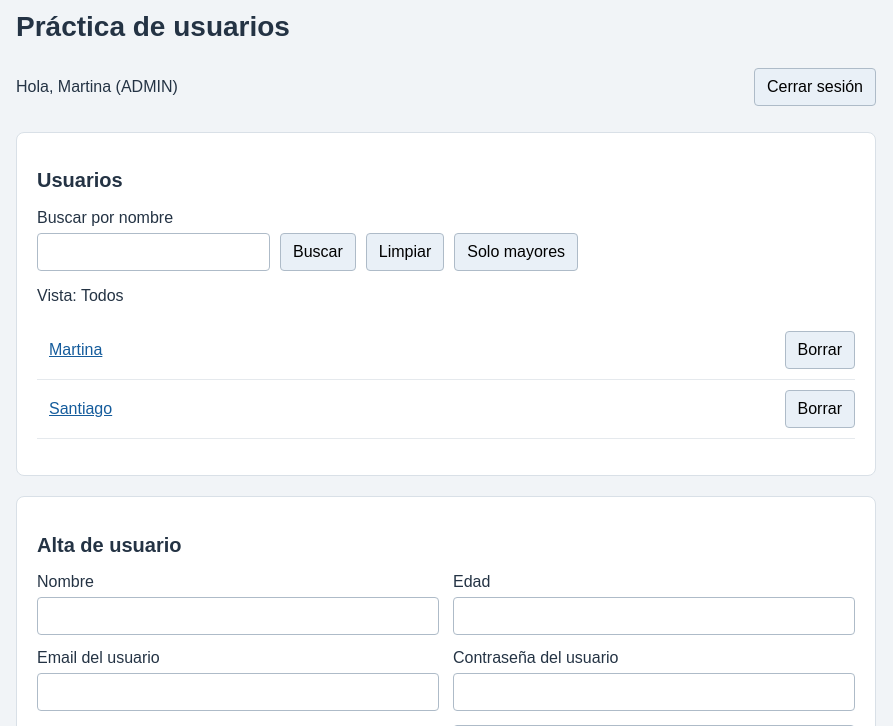
Test case: 401 al borrar cierra sesión
Check: the text "Hola, Martina (ADMIN)" is shown, box [16,78,178,96]
Check: the button "Santiago" is shown, box [37,390,124,428]
Click the 2nd button "Borrar" at (820, 409), box [784,390,855,428]
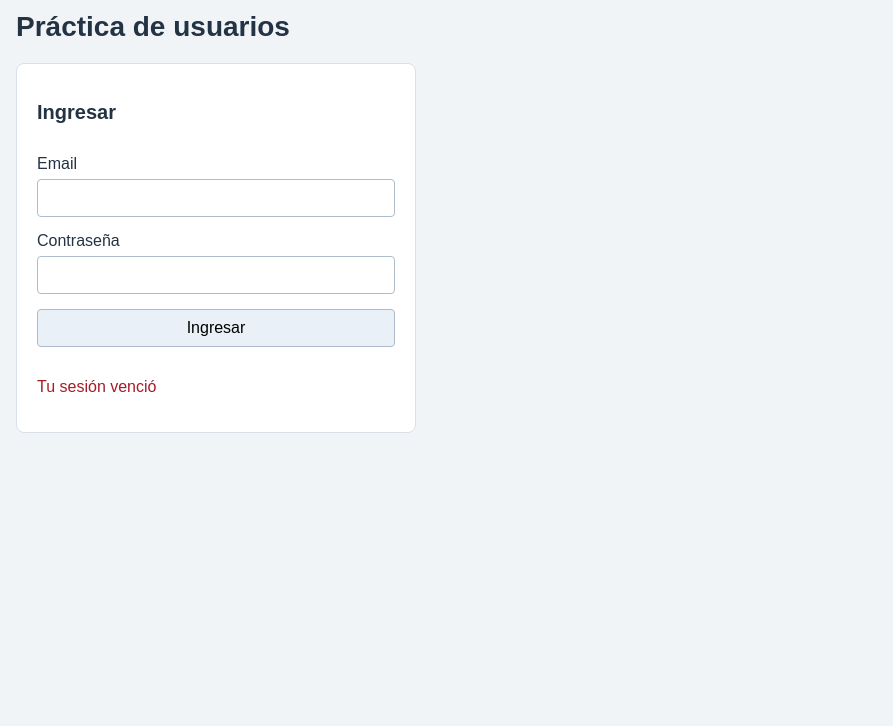
Check: the text "Tu sesión venció" is shown, box [37,378,156,395]
